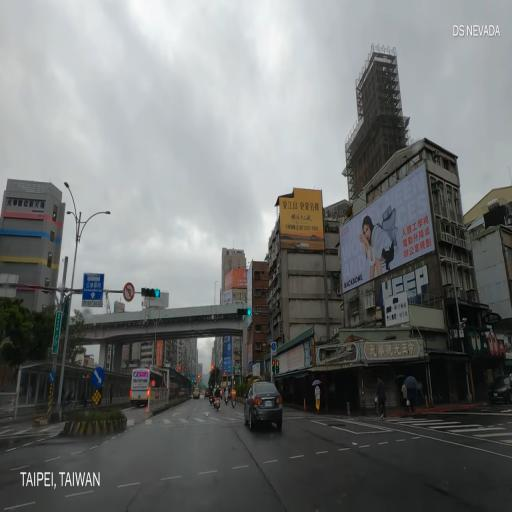Car: (244, 381, 284, 432), (130, 367, 165, 406), (214, 387, 222, 399), (193, 388, 200, 400), (204, 387, 210, 399)
